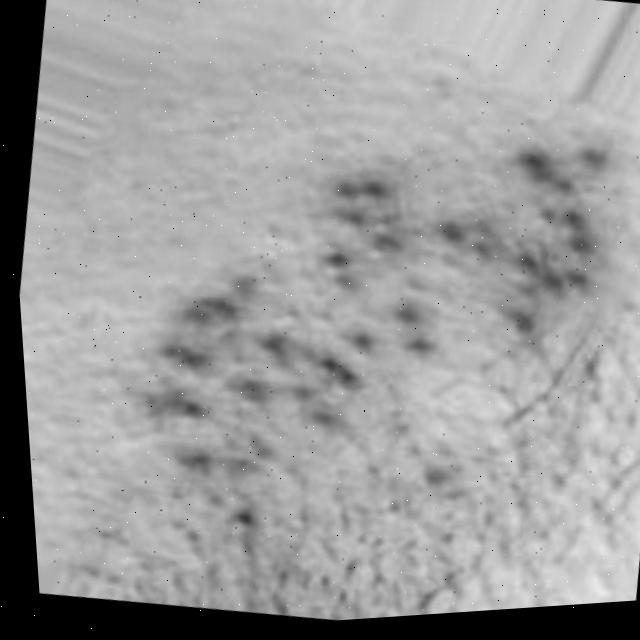Shingles: (111, 62, 640, 545)
